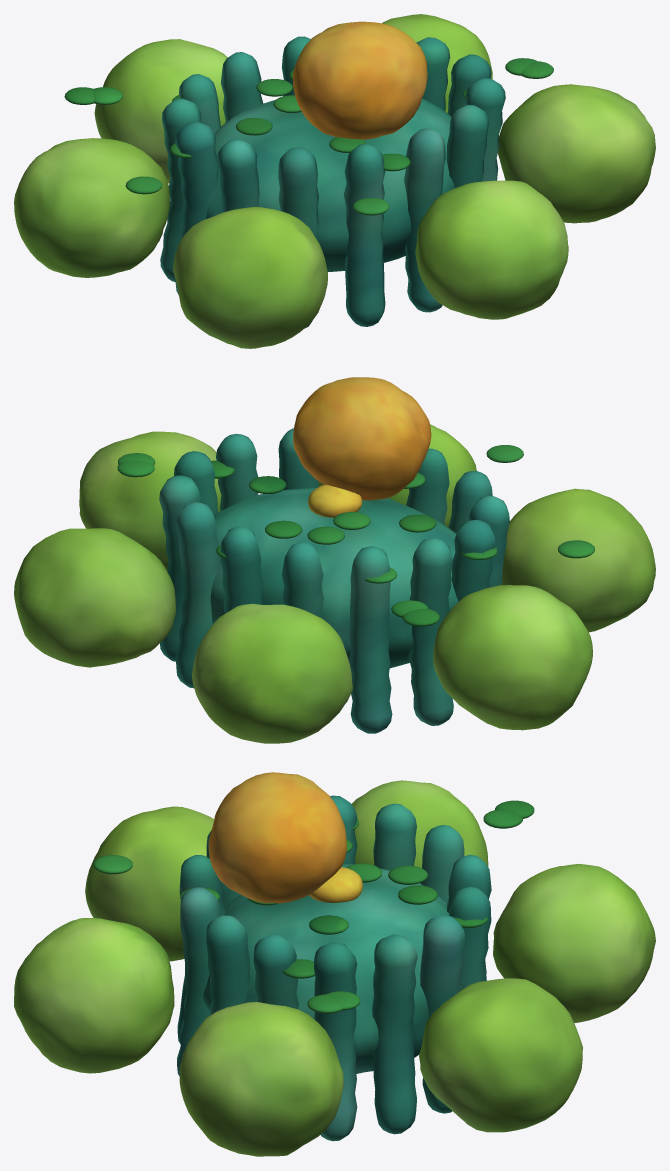
Rendered from photosystem-2.glb.
The picture shows the model from 3 angles, top to bottom: view 1: azimuth 30°, elevation 25°; view 2: azimuth 150°, elevation 25°; view 3: azimuth 270°, elevation 25°; orthographic projection. The views are drawn at different scales.
Parts seen in each view (by area): view 1: photosystem-2-antenna, photosystem-2-core, photosystem-2-oxygen-evolving, photosystem-2-chlorophyll; view 2: photosystem-2-antenna, photosystem-2-core, photosystem-2-oxygen-evolving, photosystem-2-chlorophyll, photosystem-2-reaction-centre; view 3: photosystem-2-antenna, photosystem-2-core, photosystem-2-oxygen-evolving, photosystem-2-chlorophyll, photosystem-2-reaction-centre.
Part boxes in pixels (box(x1,y1,x2,y2)): photosystem-2-antenna: box(14, 14, 655, 348); photosystem-2-core: box(160, 36, 505, 328); photosystem-2-oxygen-evolving: box(292, 21, 427, 139); photosystem-2-chlorophyll: box(64, 58, 553, 215); photosystem-2-antenna: box(14, 424, 655, 743); photosystem-2-core: box(159, 428, 509, 733); photosystem-2-oxygen-evolving: box(293, 377, 431, 500); photosystem-2-chlorophyll: box(117, 445, 594, 626); photosystem-2-reaction-centre: box(308, 484, 362, 517); photosystem-2-antenna: box(14, 780, 655, 1156); photosystem-2-core: box(177, 795, 491, 1141); photosystem-2-oxygen-evolving: box(208, 772, 346, 903); photosystem-2-chlorophyll: box(93, 800, 534, 1013); photosystem-2-reaction-centre: box(309, 867, 362, 902).
Size of what is drawn, in the model's own units: 2.42 by 1.1 by 2.24.
